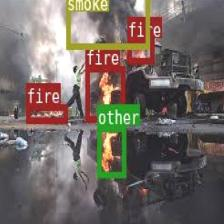fire: (84, 65, 124, 121), (25, 104, 67, 122), (127, 38, 154, 62)
smoke: (65, 0, 148, 47)
